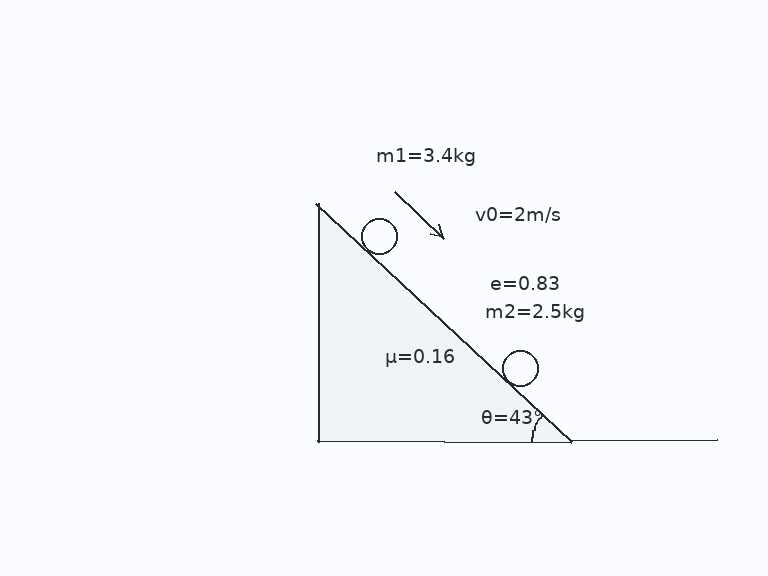ball: (359, 216, 399, 256), (500, 348, 540, 388)
ramp: (316, 202, 574, 443)
